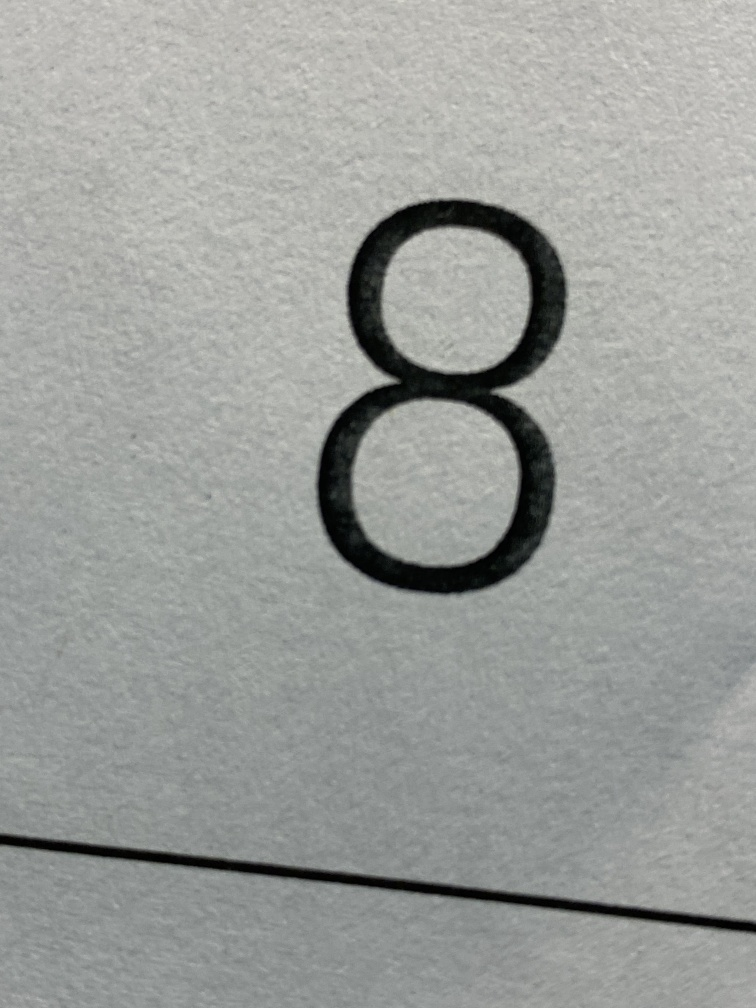eight: (237, 130, 640, 659)
